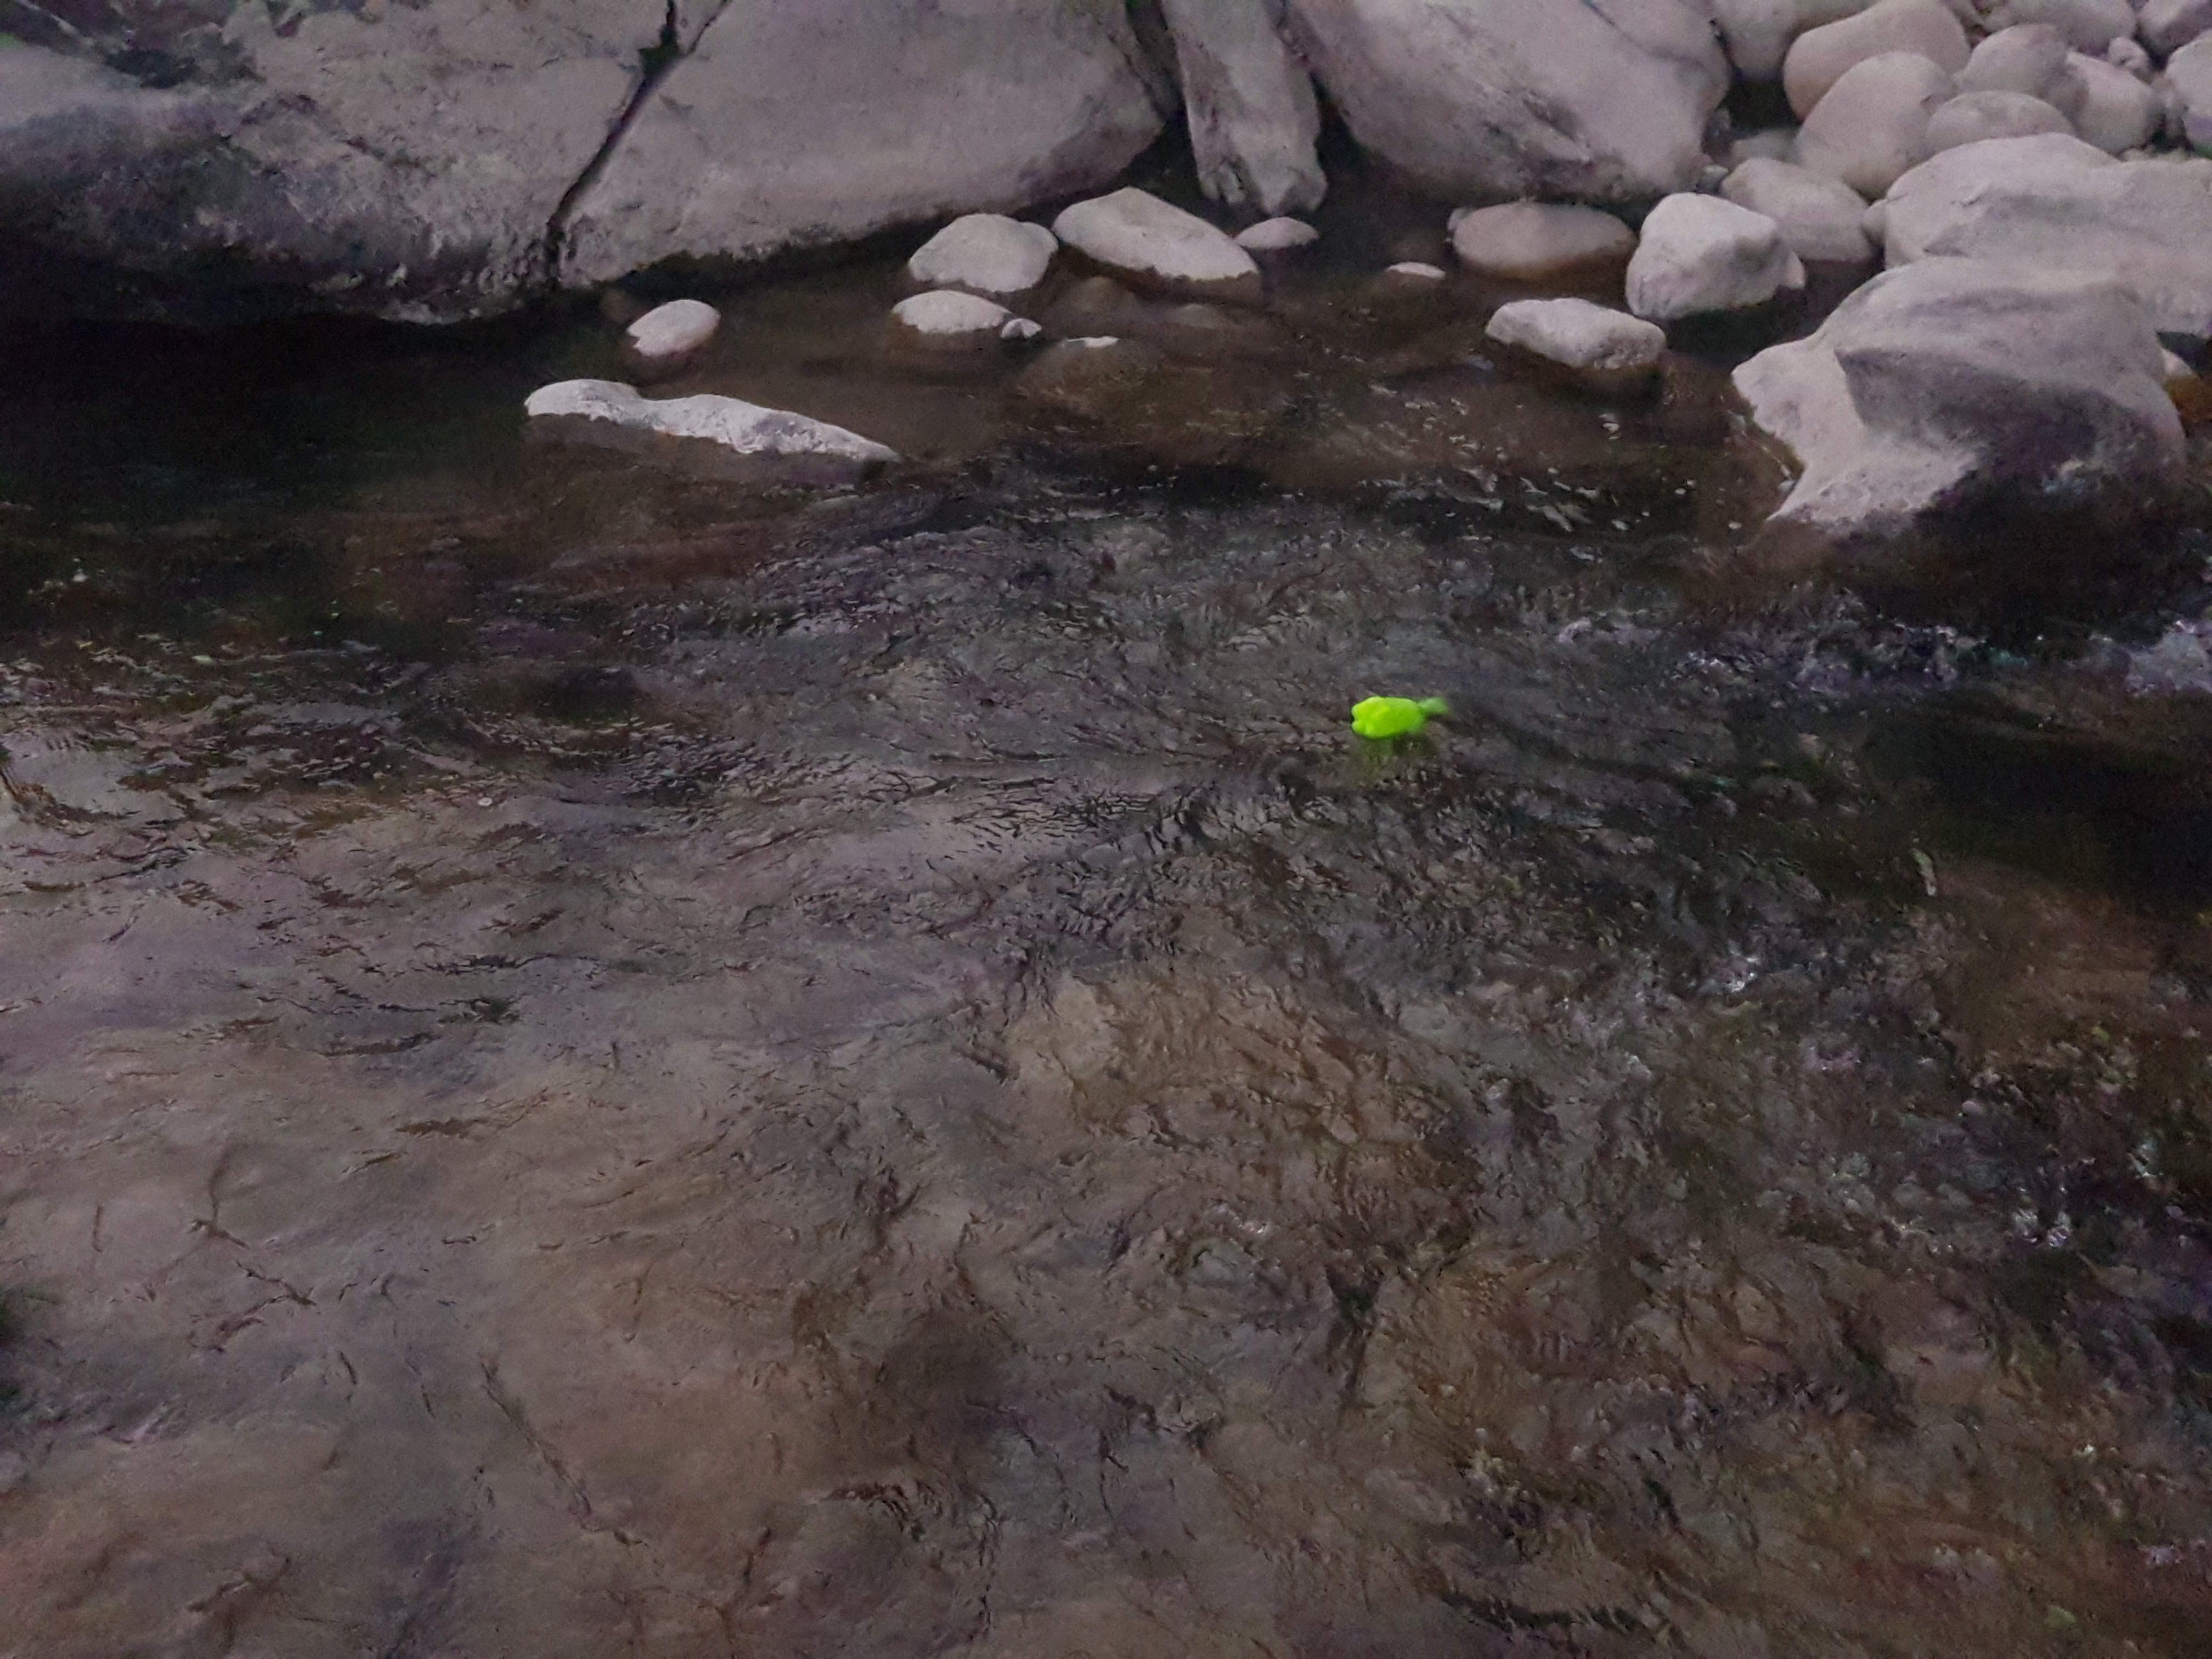Plastic Bottle: (1350, 694, 1425, 737)
